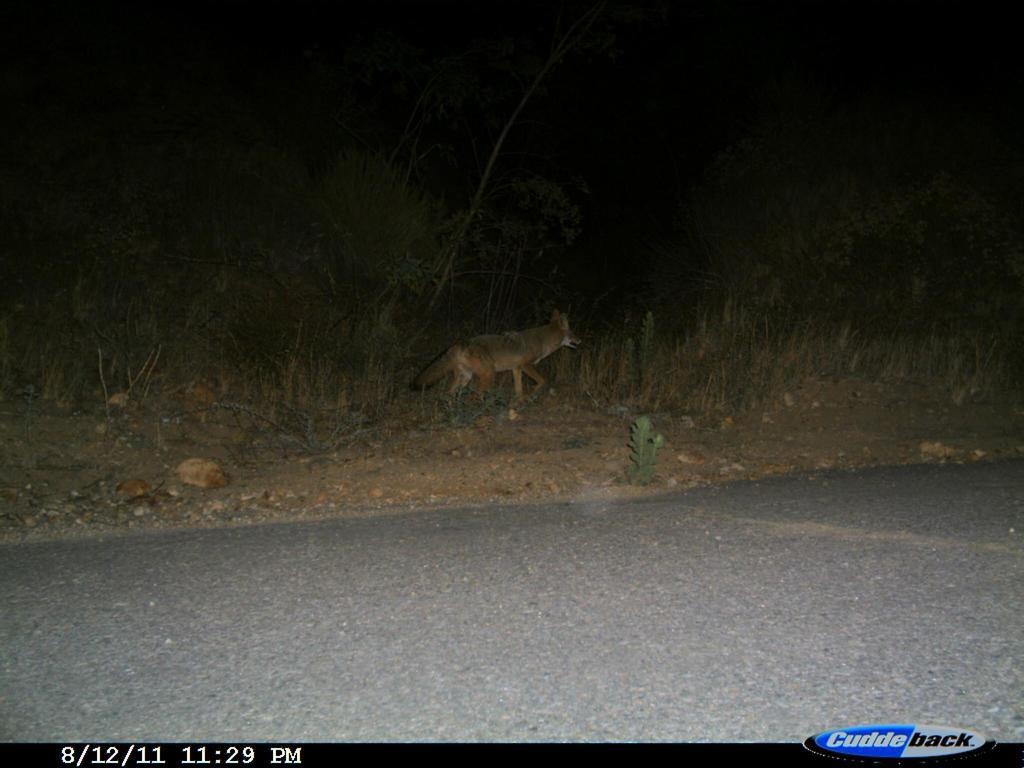coyote: (415, 292, 584, 418)
